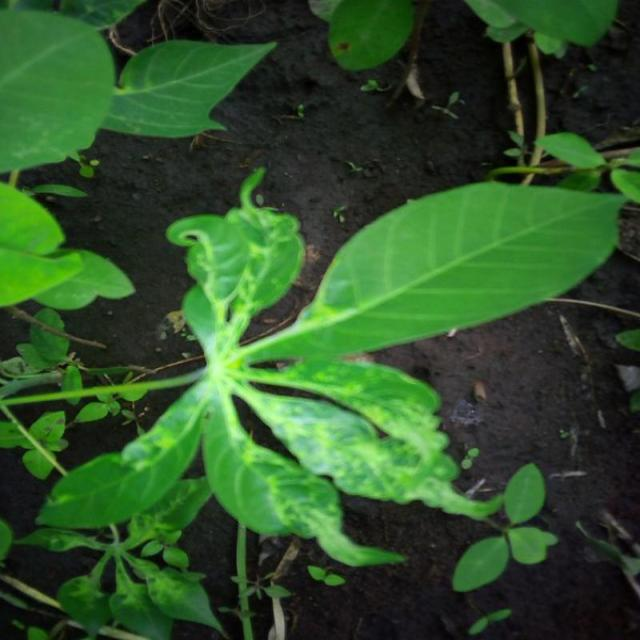cassava leaf: (34, 166, 626, 571), (237, 177, 626, 366), (0, 6, 114, 173), (100, 36, 278, 139)
